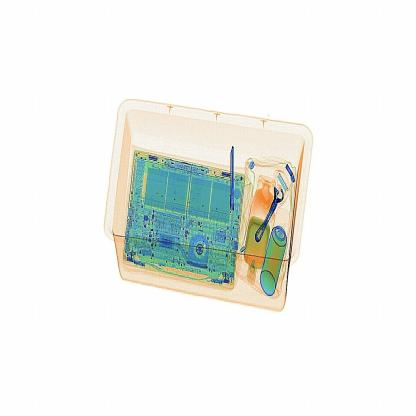pliers: (226, 139, 239, 212)
